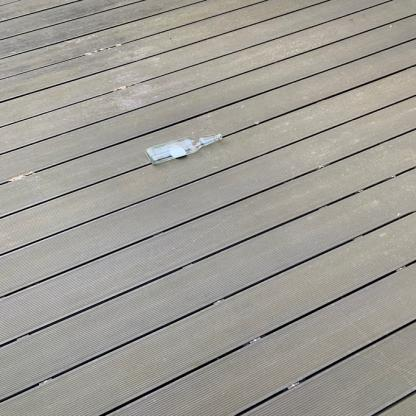trash: (144, 132, 224, 165)
